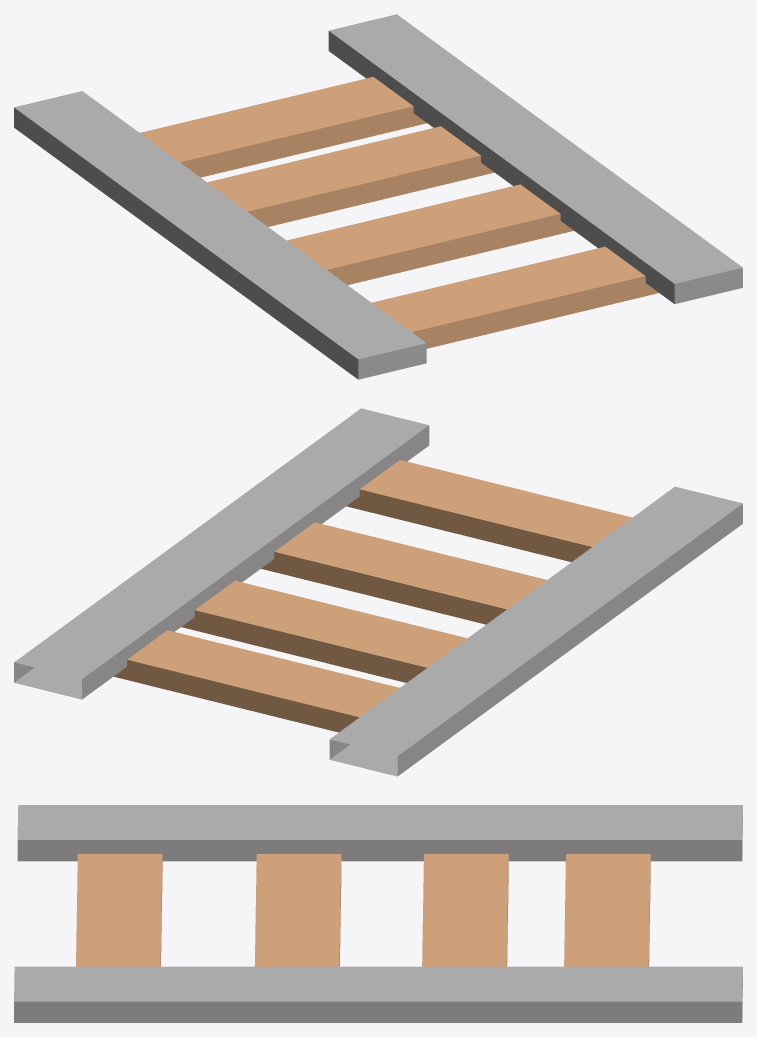
Rendered from Rail_Straight.fbx.
3 views of the same model, one above another, from view 1: azimuth 30°, elevation 25°; view 2: azimuth 150°, elevation 25°; view 3: azimuth 270°, elevation 25° (orthographic). The views are drawn at different scales.
Parts seen in each view (by area): view 1: Rail_Straight.001; view 2: Rail_Straight.001; view 3: Rail_Straight.001.
Part boxes in pixels (x1,y1,x2,y2): Rail_Straight.001: (14, 14, 742, 379); Rail_Straight.001: (14, 408, 742, 776); Rail_Straight.001: (14, 805, 742, 1022).
Bounding box in the file's own units: 1.28 × 0.1077 × 2.01.
